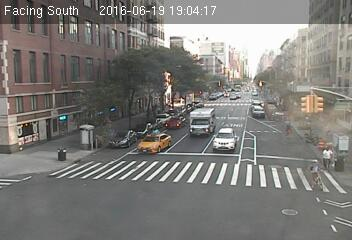neg: (157, 70, 172, 90), (254, 75, 266, 91), (215, 77, 225, 90)
pos: (316, 144, 340, 176), (280, 115, 297, 137)
